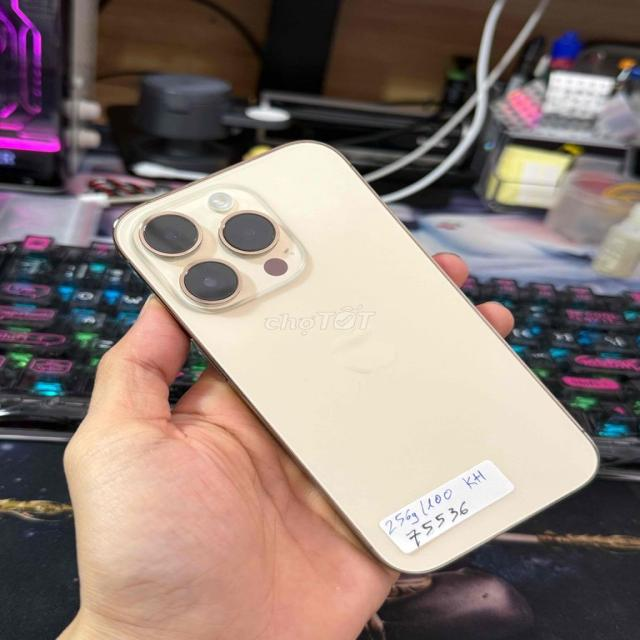gen_14: (114, 138, 613, 586)
